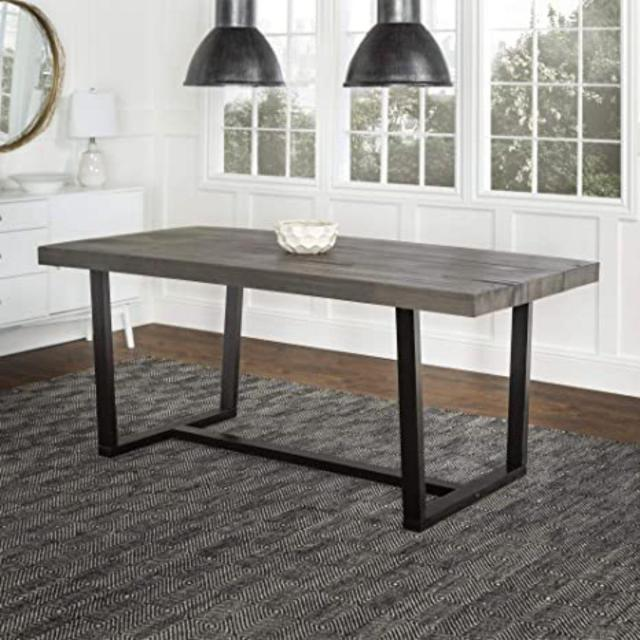mobile-phone: (39, 210, 604, 534)
